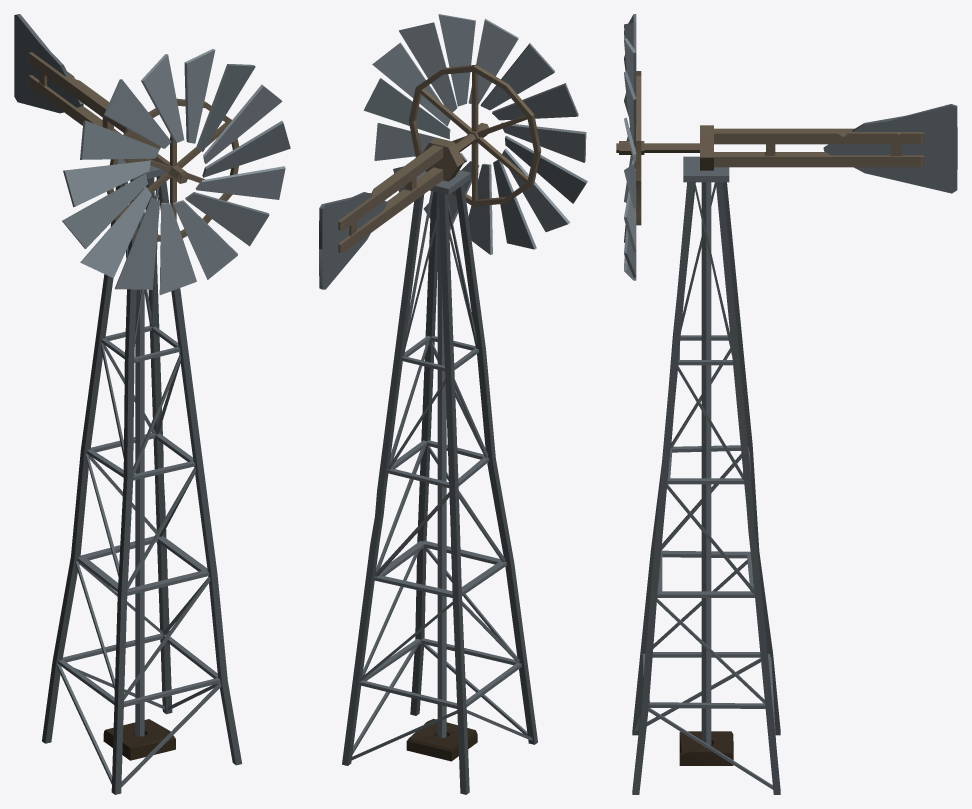
File: SM_Prop_Windmill_01.glb
3 renders of one model, left to right at view 1: azimuth 30°, elevation 25°; view 2: azimuth 150°, elevation 25°; view 3: azimuth 270°, elevation 25°, orthographic. The views are drawn at different scales.
Parts seen in each view (by area): view 1: SM_Prop_Windmill_01, SM_Prop_Windmill_Blades_01, SM_Prop_Windmill_Top_01; view 2: SM_Prop_Windmill_01, SM_Prop_Windmill_Blades_01, SM_Prop_Windmill_Top_01; view 3: SM_Prop_Windmill_01, SM_Prop_Windmill_Top_01, SM_Prop_Windmill_Blades_01.
Part boxes in pixels (box(x1,y1,x2,y2)): SM_Prop_Windmill_01: box(42, 159, 242, 794); SM_Prop_Windmill_Blades_01: box(62, 49, 290, 295); SM_Prop_Windmill_Top_01: box(14, 14, 160, 163); SM_Prop_Windmill_01: box(342, 170, 537, 794); SM_Prop_Windmill_Blades_01: box(363, 14, 587, 254); SM_Prop_Windmill_Top_01: box(319, 138, 464, 289); SM_Prop_Windmill_01: box(632, 156, 780, 794); SM_Prop_Windmill_Top_01: box(700, 104, 957, 193); SM_Prop_Windmill_Blades_01: box(616, 14, 699, 280).
Bounding box in the file's own units: 3.77 × 11.48 × 4.83.
3 materials, 3 textured.
